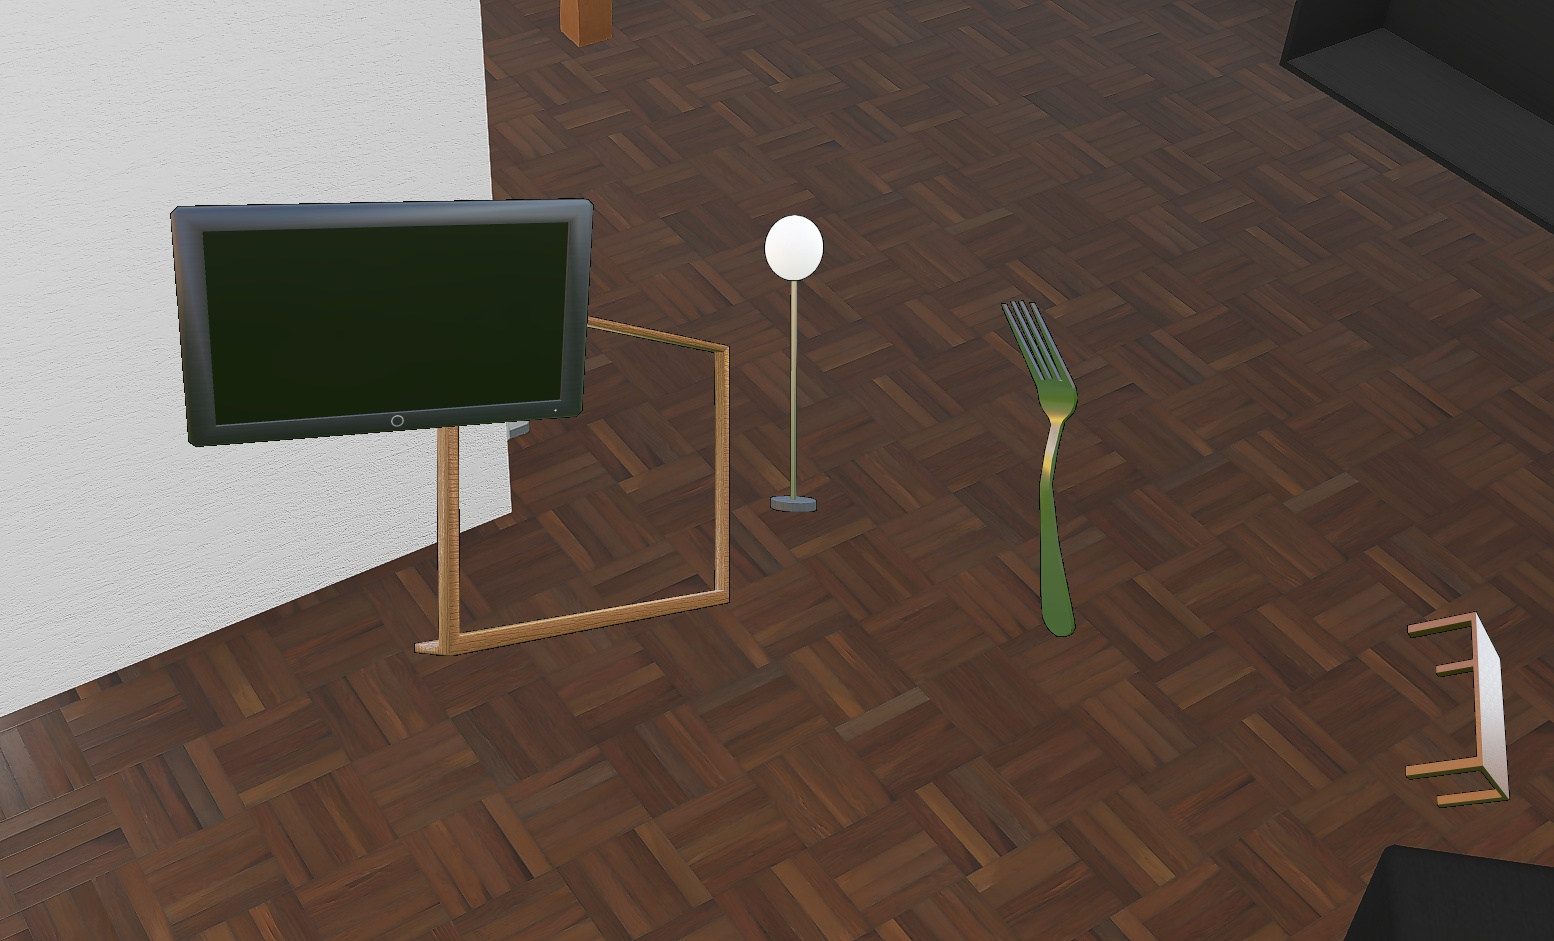luz: (764, 214, 824, 513)
mesa: (1405, 611, 1510, 808)
pisarra: (414, 285, 730, 657)
televisor: (170, 198, 594, 447)
tenedor: (1000, 300, 1079, 637)
